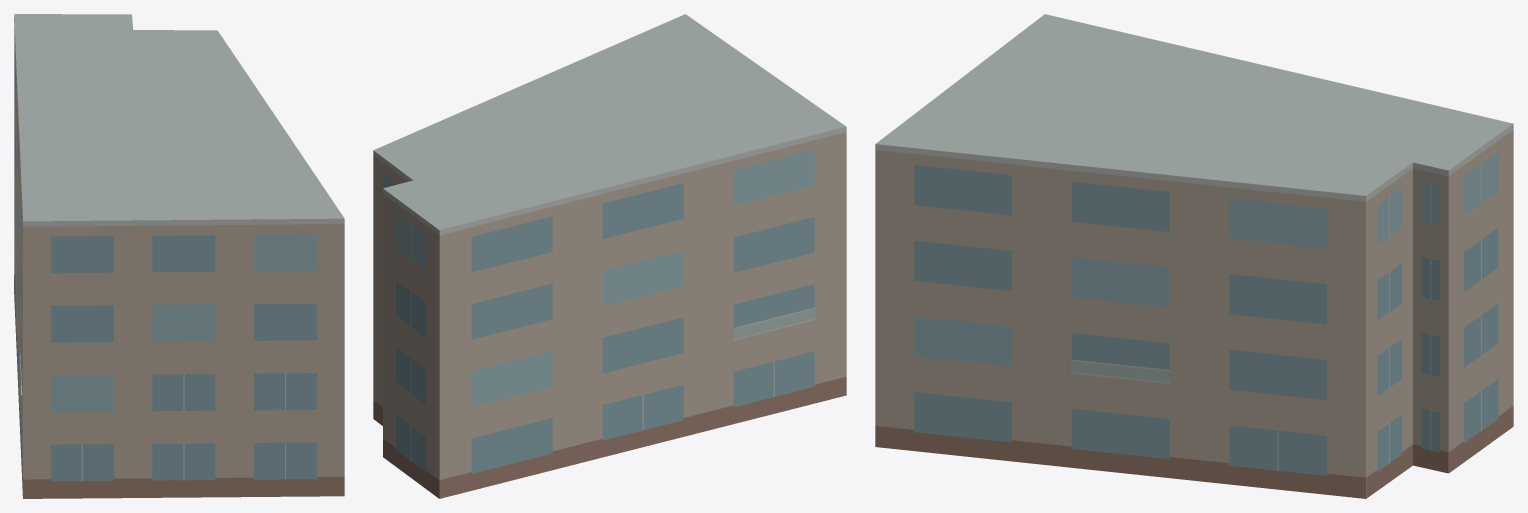
Rendered from survey-upis-32958555.glb.
3 views of the same model, side by side, from view 1: azimuth 30°, elevation 25°; view 2: azimuth 150°, elevation 25°; view 3: azimuth 270°, elevation 25° (orthographic). The views are drawn at different scales.
Visible parts, largest first — view 1: survey-upis-32958555.tmp; view 2: survey-upis-32958555.tmp; view 3: survey-upis-32958555.tmp.
Part boxes in pixels (x1,y1,x2,y2): survey-upis-32958555.tmp: (14,14,344,498); survey-upis-32958555.tmp: (373,14,846,498); survey-upis-32958555.tmp: (875,14,1513,498).
Size of the model in its own units: 16.13 by 12.51 by 23.9.
